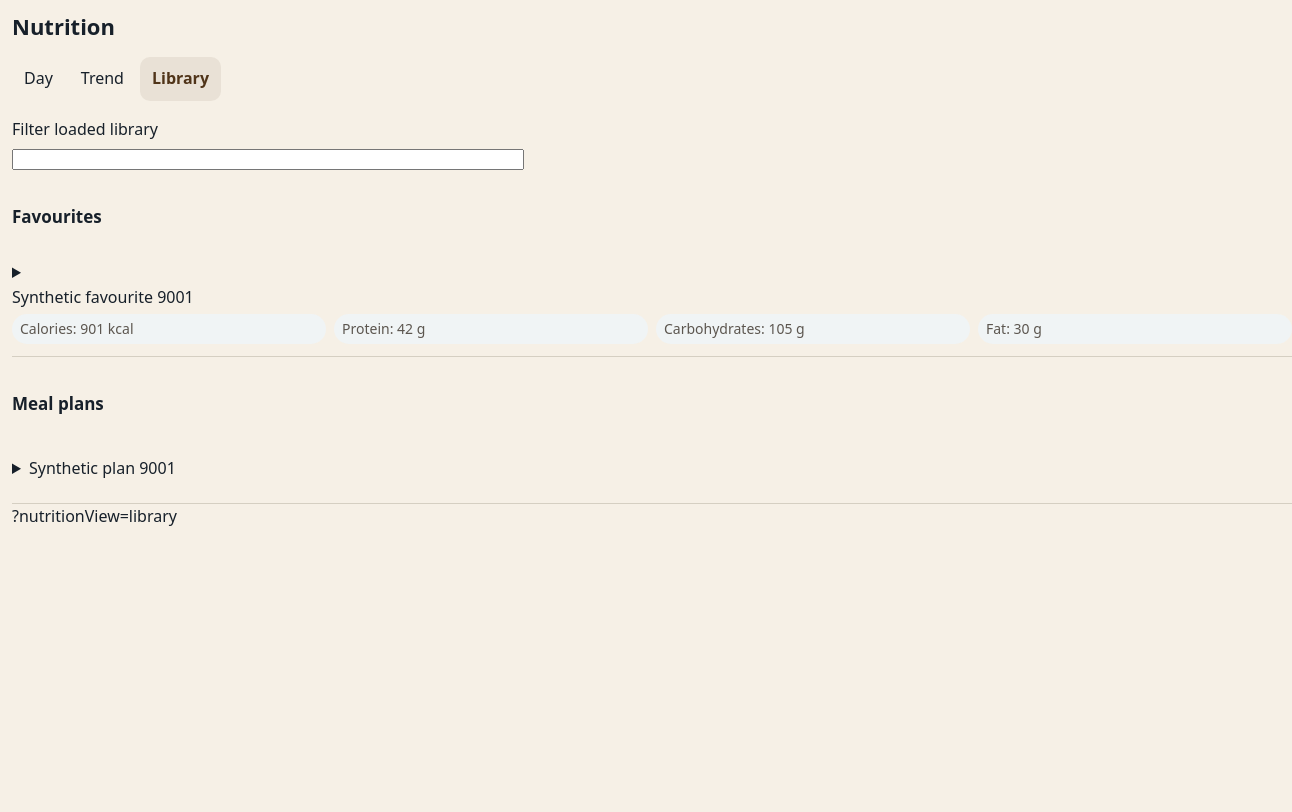
Scenario: Nutrition section › preserves favourites and meal plans in the existing library view
The width and height of the screenshot is (1292, 812).
Expected: the text "Synthetic favourite 9001" is shown, left=12, top=286, right=194, bottom=308
Click the heading "Synthetic plan 9001": point(102, 468) left=29, top=458, right=176, bottom=480
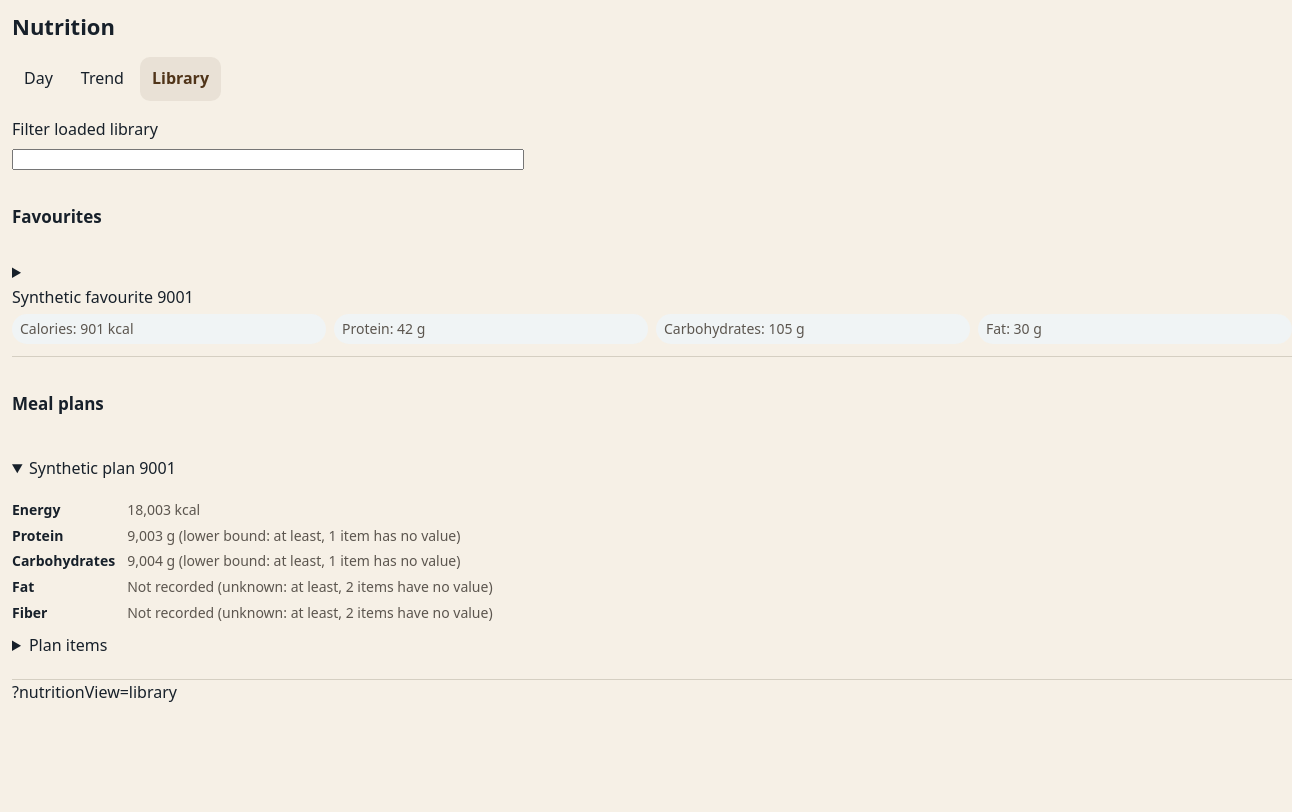
Result: the text "18,003 kcal" is shown at left=127, top=500, right=200, bottom=519
Result: the text "9,003 g (lower bound: at least, 1 item has no value)" is shown at left=127, top=526, right=460, bottom=544
Result: the text "9,004 g (lower bound: at least, 1 item has no value)" is shown at left=127, top=551, right=460, bottom=570
In the search field: point(268, 160) left=12, top=149, right=524, bottom=170, type "Synthetic alias 9002"
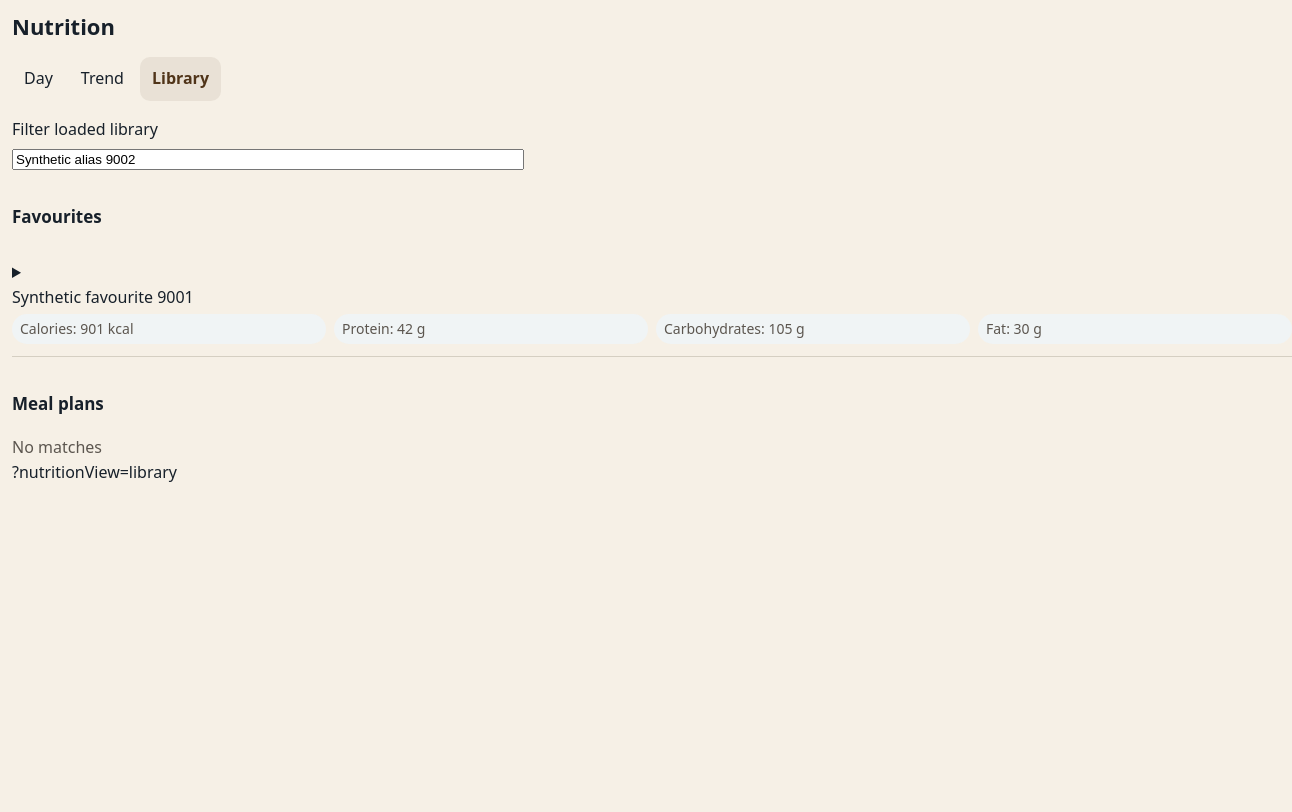
Expected: the text "Synthetic favourite 9001" is shown, left=12, top=286, right=194, bottom=308
Result: the heading "Synthetic plan 9001" is gone
